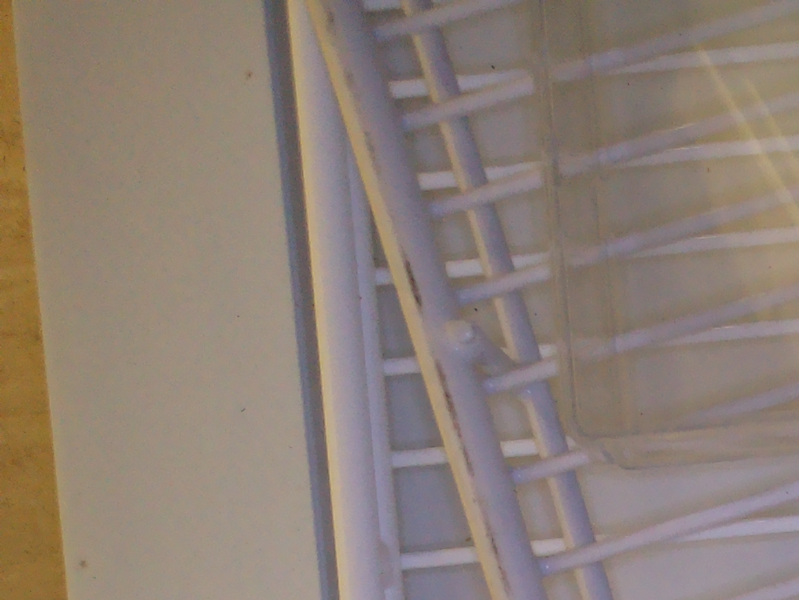plate: (531, 1, 799, 473)
